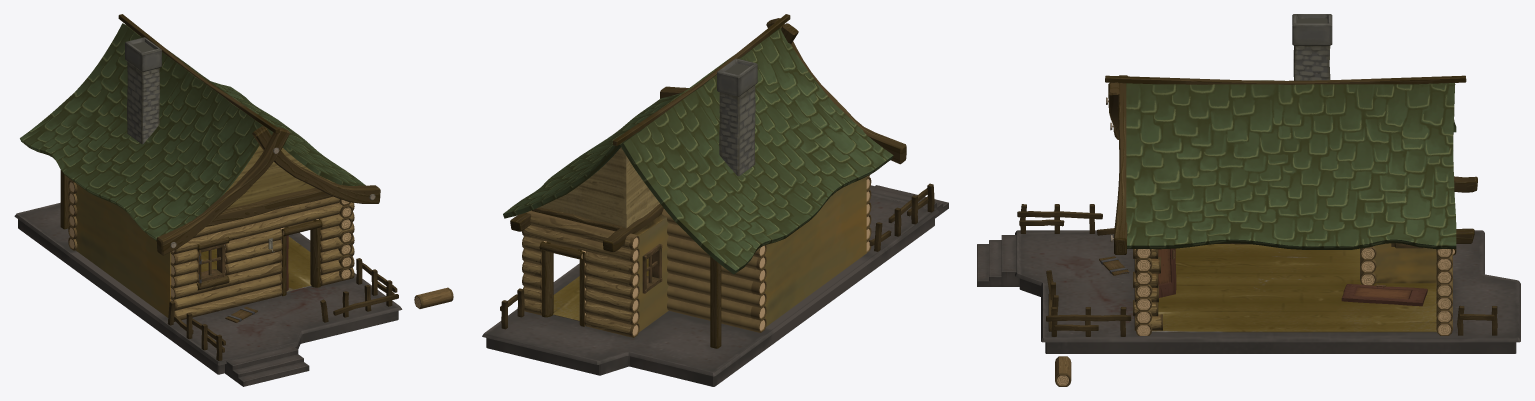
3 views of the same model, side by side, from view 1: azimuth 30°, elevation 25°; view 2: azimuth 150°, elevation 25°; view 3: azimuth 270°, elevation 25° (orthographic). The views are drawn at different scales.
Parts seen in each view (by area): view 1: Roof_Combined, Foundation, Back_wall, front_beams, front_logs_2, front_logs_1, chimney, Fences, Front_Stairs, front_top_filler, Pillar_inside_and_roof_beams, Front_Door_Frame (+5 smaller); view 2: Roof_Combined, Foundation, Back_wall, Back_top_filler, Back_logs_1, Back_logs_2, Pillar_inside_and_roof_beams, chimney, mid_logs_2, mid_logs_1, back_small_wall1, Fences (+5 smaller); view 3: Roof_Combined, Foundation, floor, Fences, Pillar_inside_and_roof_beams, chimney, Doors, back_small_wall1, front_beams, Front_Stairs, Buffer_logs, Back_logs_2 (+4 smaller).
Boxes of the visible parts, bbox=[...] form: Roof_Combined: bbox=[20, 23, 365, 240]; Foundation: bbox=[14, 202, 402, 374]; Back_wall: bbox=[75, 183, 171, 317]; front_beams: bbox=[156, 126, 380, 255]; front_logs_2: bbox=[170, 202, 354, 321]; front_logs_1: bbox=[170, 196, 354, 310]; chimney: bbox=[125, 37, 161, 144]; Fences: bbox=[167, 258, 398, 360]; Front_Stairs: bbox=[225, 345, 309, 386]; front_top_filler: bbox=[223, 145, 334, 208]; Pillar_inside_and_roof_beams: bbox=[60, 14, 279, 229]; Front_Door_Frame: bbox=[280, 219, 322, 296]; Roof_Combined: bbox=[503, 28, 893, 274]; Foundation: bbox=[482, 193, 938, 386]; Back_wall: bbox=[764, 177, 866, 326]; Back_top_filler: bbox=[540, 147, 659, 228]; Back_logs_1: bbox=[522, 210, 639, 325]; Back_logs_2: bbox=[522, 225, 639, 337]; Pillar_inside_and_roof_beams: bbox=[510, 14, 790, 348]; chimney: bbox=[717, 58, 757, 176]; mid_logs_2: bbox=[667, 223, 766, 332]; mid_logs_1: bbox=[662, 209, 766, 320]; back_small_wall1: bbox=[634, 214, 668, 332]; Fences: bbox=[500, 183, 934, 329]; Roof_Combined: bbox=[1126, 80, 1456, 249]; Foundation: bbox=[1015, 230, 1520, 353]; floor: bbox=[1152, 244, 1436, 332]; Fences: bbox=[1017, 204, 1497, 336]; Pillar_inside_and_roof_beams: bbox=[1105, 75, 1477, 244]; chimney: bbox=[1292, 14, 1332, 80]; Doors: bbox=[1158, 248, 1427, 306]; back_small_wall1: bbox=[1373, 243, 1436, 283]; front_beams: bbox=[1106, 75, 1127, 254]; Front_Stairs: bbox=[977, 235, 1019, 286]; Buffer_logs: bbox=[1133, 249, 1162, 330]; Back_logs_2: bbox=[1436, 249, 1452, 335].
Size of the model in its own units: 12.19 by 9.77 by 18.75.
30 materials, 30 textured.
